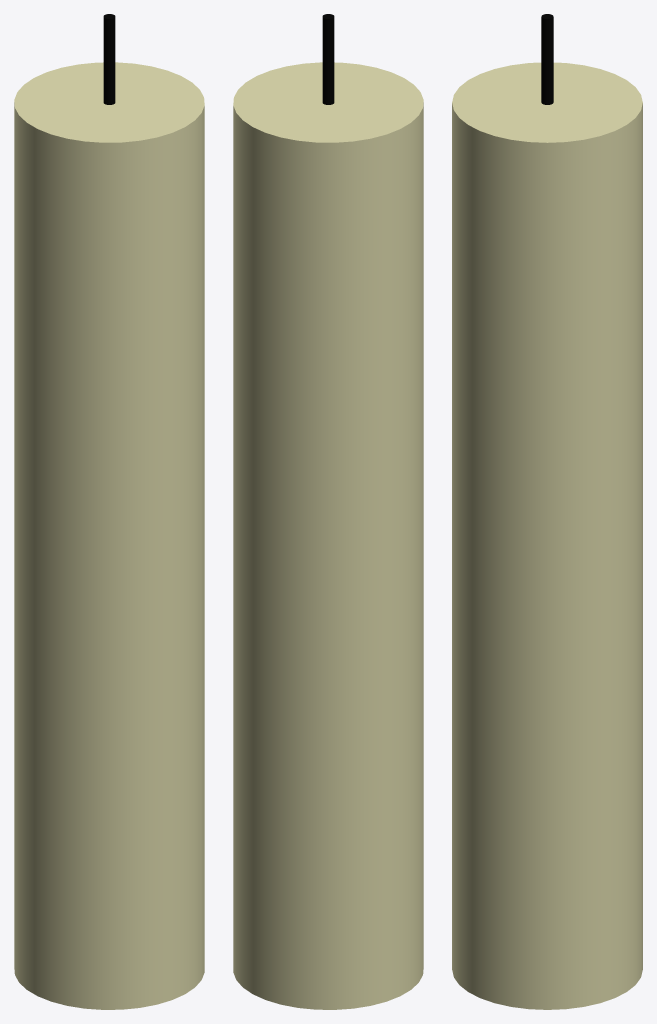
Rendered from bougie_chandelier.glb.
The picture shows the model from 3 angles, left to right: view 1: azimuth 30°, elevation 25°; view 2: azimuth 150°, elevation 25°; view 3: azimuth 270°, elevation 25°; orthographic projection.
Parts seen in each view (by area): view 1: chandelier_bougies_solo; view 2: chandelier_bougies_solo; view 3: chandelier_bougies_solo.
Part boxes in pixels (box(x1,y1,x2,y2)): chandelier_bougies_solo: box(14, 14, 204, 1009); chandelier_bougies_solo: box(233, 14, 423, 1009); chandelier_bougies_solo: box(452, 14, 642, 1009).
Bounding box in the file's own units: 0.0517 × 0.2851 × 0.0517.
